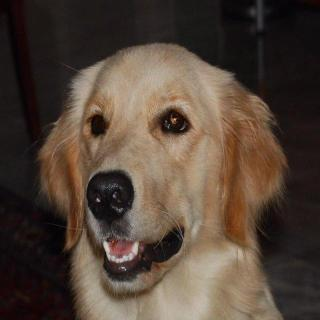dog: (36, 39, 272, 304)
nose: (78, 165, 142, 228)
